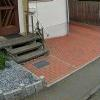stairs: (4, 33, 47, 62)
